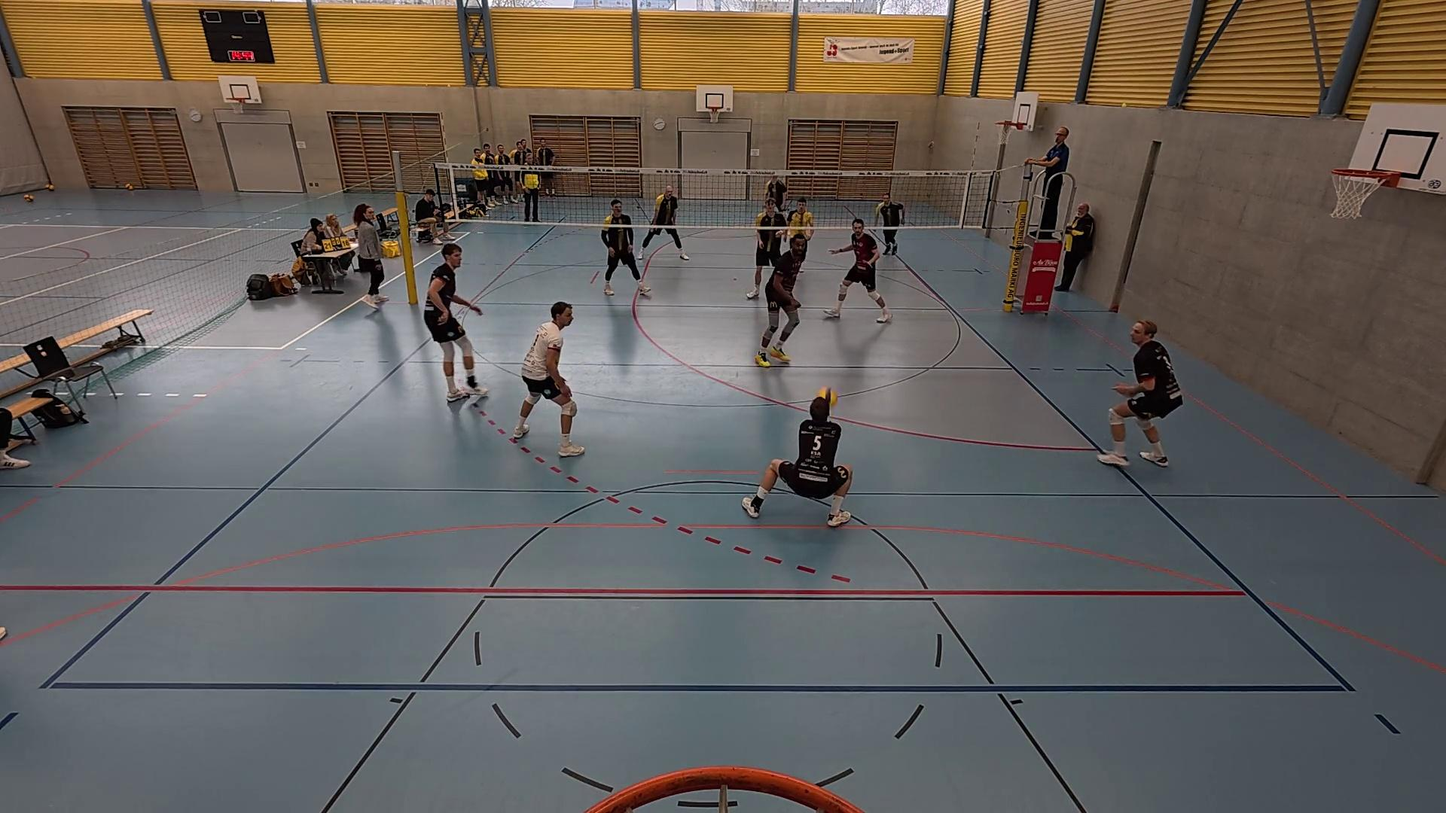ricezione: (738, 391, 856, 528)
